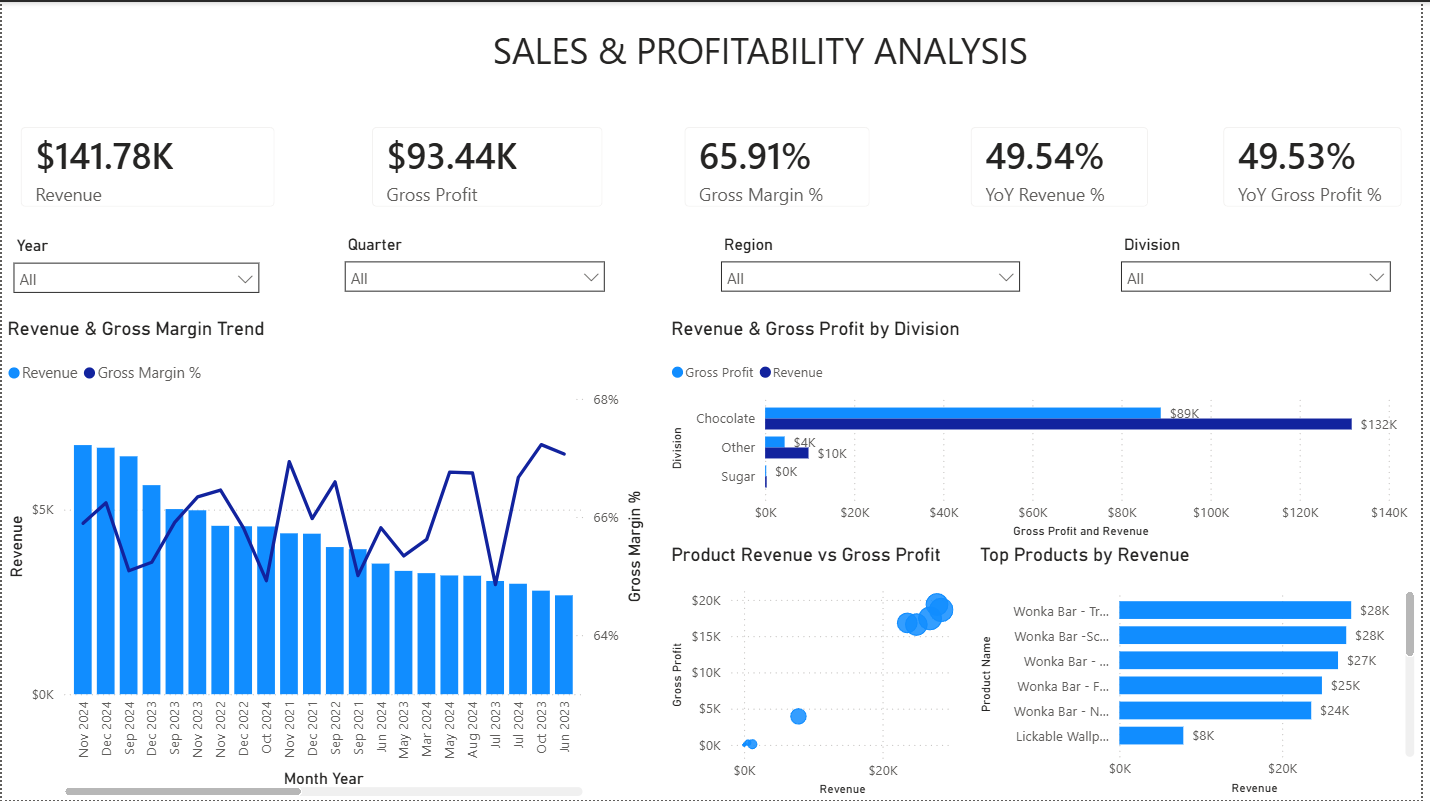

The page's visual inventory and layout, read from the dashboard file:
{"tool":"powerbi","page":{"name":"Sales & Profitability Intelligence","canvas":[1280,720],"ordinal":1},"visuals":[{"type":"cardVisual","fields":{"Data":["_Measures.Gross Profit"]},"box":[317.2,95.8,242.6,107],"z":0},{"type":"cardVisual","fields":{"Data":["_Measures.YoY Revenue %"]},"box":[857.1,95.8,194.1,107],"z":1000},{"type":"cardVisual","fields":{"Data":["_Measures.Revenue"]},"box":[0,95.8,263.7,107],"z":2000},{"type":"cardVisual","fields":{"Data":["_Measures.Gross Margin %"]},"box":[598.3,95.8,201.5,107],"z":3000},{"type":"textbox","box":[317.2,17.4,733.9,59.7],"z":4000},{"type":"cardVisual","fields":{"Data":["_Measures.YoY Gross Profit %"]},"box":[1084.7,95.8,195.3,107],"z":5000},{"type":"slicer","fields":{"Values":["DimDate.Date.Variation.Date Hierarchy.Year"]},"box":[0,206.7,241.7,111.7],"z":6000},{"type":"slicer","fields":{"Values":["DimDate.Date.Variation.Date Hierarchy.Quarter"]},"box":[298.3,205,255,111.7],"z":7000},{"type":"slicer","fields":{"Values":["DimCustomer.Region"]},"box":[638.3,205,290,111.7],"z":8000},{"type":"slicer","fields":{"Values":["DimDivision.Division"]},"box":[998.3,205,263.3,111.7],"z":9000},{"type":"lineClusteredColumnComboChart","title":"Revenue & Gross Margin Trend","fields":{"Category":["DimDate.Month Year"],"Y2":["_Measures.Gross Margin %"],"Y":["_Measures.Revenue"]},"box":[0,283.6,583.4,436.6],"z":10000},{"type":"clusteredBarChart","title":"Revenue & Gross Profit by Division","fields":{"Category":["DimDivision.Division"],"Y":["_Measures.Gross Profit","_Measures.Revenue"]},"box":[598.3,283.6,681.7,204],"z":11000},{"type":"scatterChart","title":"Product Revenue vs Gross Profit","fields":{"X":["_Measures.Revenue"],"Y":["_Measures.Gross Profit"],"Category":["DimProduct.Product Name"],"Size":["_Measures.Total Cost"]},"box":[598.3,487.6,278.6,232.6],"z":12000},{"type":"barChart","title":"Top Products by Revenue","fields":{"Y":["_Measures.Revenue"],"Category":["DimProduct.Product Name"]},"box":[877,487.6,401.8,231.4],"z":13000}]}

Visuals, with their boxes in screenshot pixels (x1, y1, x2, y2), scaled from the page's 1280x720 canvas onto the 1430x801 screenshot:
cardVisual - _Measures.Gross Profit: <region>354, 107, 625, 226</region>
cardVisual - _Measures.YoY Revenue %: <region>958, 107, 1174, 226</region>
cardVisual - _Measures.Revenue: <region>0, 107, 295, 226</region>
cardVisual - _Measures.Gross Margin %: <region>668, 107, 894, 226</region>
textbox: <region>354, 19, 1174, 86</region>
cardVisual - _Measures.YoY Gross Profit %: <region>1212, 107, 1429, 226</region>
slicer - DimDate.Date.Variation.Date Hierarchy.Year: <region>0, 230, 270, 354</region>
slicer - DimDate.Date.Variation.Date Hierarchy.Quarter: <region>333, 228, 618, 352</region>
slicer - DimCustomer.Region: <region>713, 228, 1037, 352</region>
slicer - DimDivision.Division: <region>1115, 228, 1409, 352</region>
"Revenue & Gross Margin Trend" lineClusteredColumnComboChart: <region>0, 316, 652, 800</region>
"Revenue & Gross Profit by Division" clusteredBarChart: <region>668, 316, 1429, 542</region>
"Product Revenue vs Gross Profit" scatterChart: <region>668, 542, 980, 800</region>
"Top Products by Revenue" barChart: <region>980, 542, 1429, 800</region>
